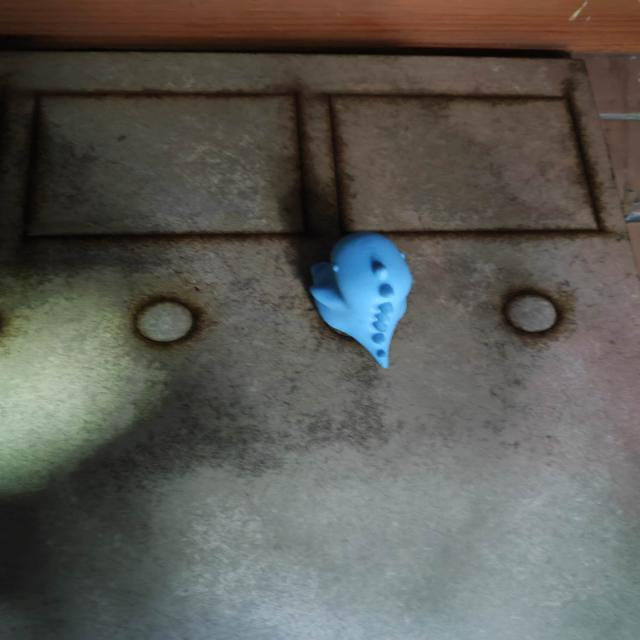DINO: (295, 211, 425, 384)
